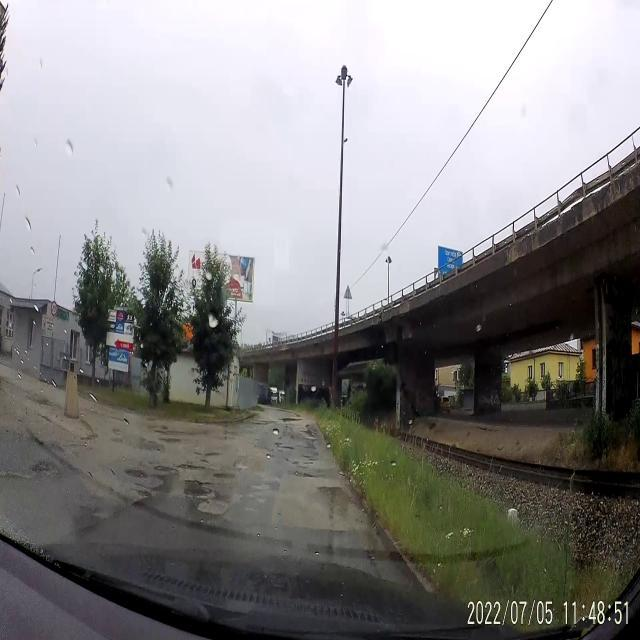Manhole: (124, 462, 152, 486), (182, 482, 215, 498), (213, 472, 237, 480)
Pothole: (290, 466, 320, 484), (155, 456, 181, 476), (274, 440, 296, 457), (177, 461, 211, 472), (302, 452, 318, 464), (195, 449, 220, 456)
